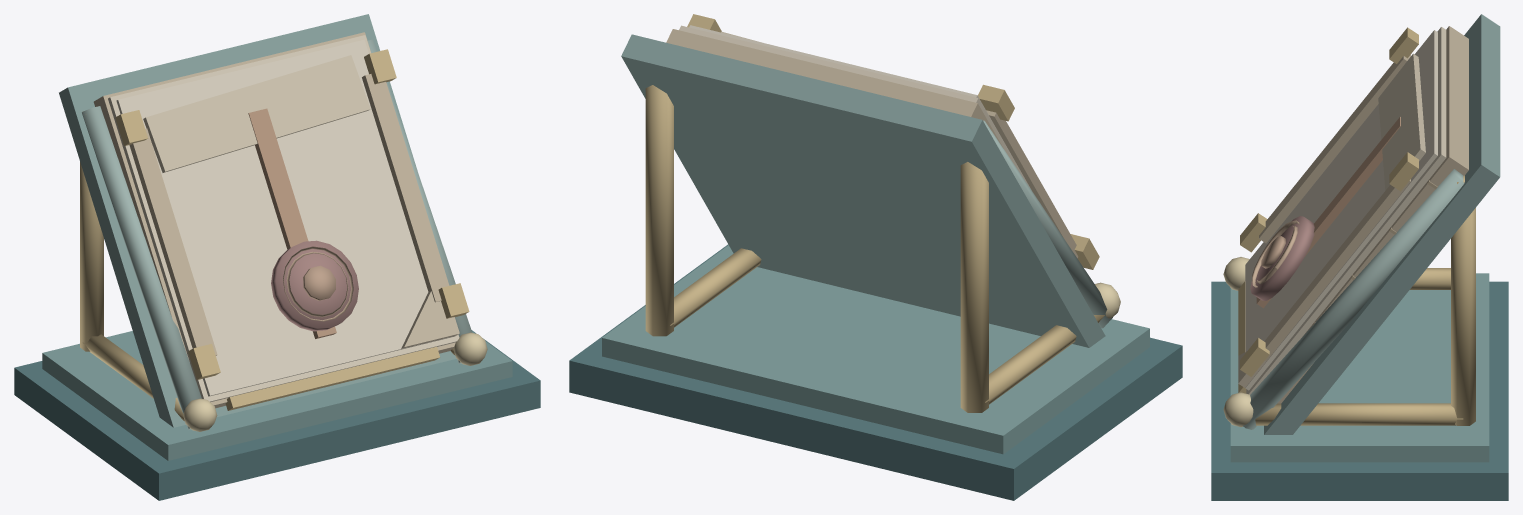
File: ART-71.glb
3 views of the same model, side by side, from view 1: azimuth 30°, elevation 25°; view 2: azimuth 150°, elevation 25°; view 3: azimuth 270°, elevation 25° (orthographic). The views are drawn at different scales.
Visible parts, largest first — view 1: world; view 2: world; view 3: world.
Boxes of the visible parts, <box> form: world: <box>14,14,540,500</box>; world: <box>569,14,1182,500</box>; world: <box>1211,14,1508,500</box>.
Size of the model in its own units: 2 by 1.54 by 1.31.
